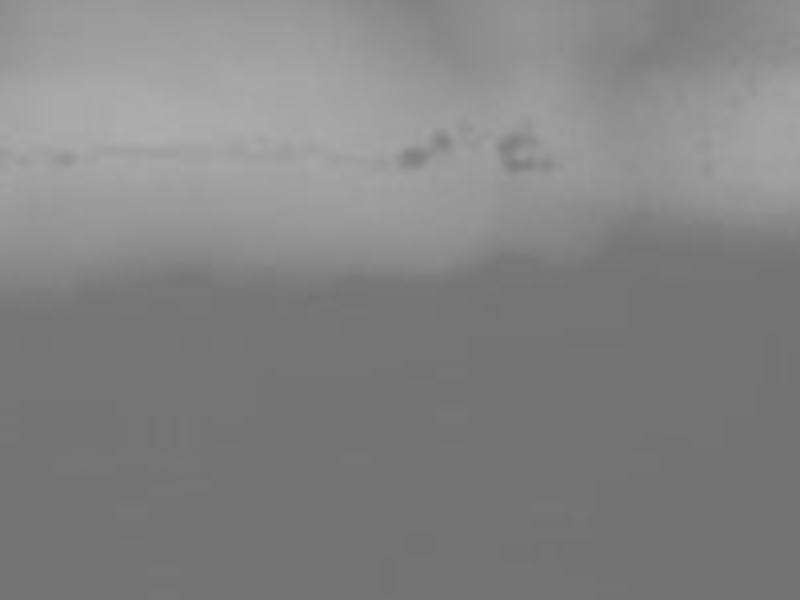defect: (496, 130, 543, 174), (399, 142, 429, 175), (46, 146, 80, 169), (429, 127, 454, 154), (694, 157, 718, 180), (5, 147, 31, 168), (453, 117, 475, 136)
